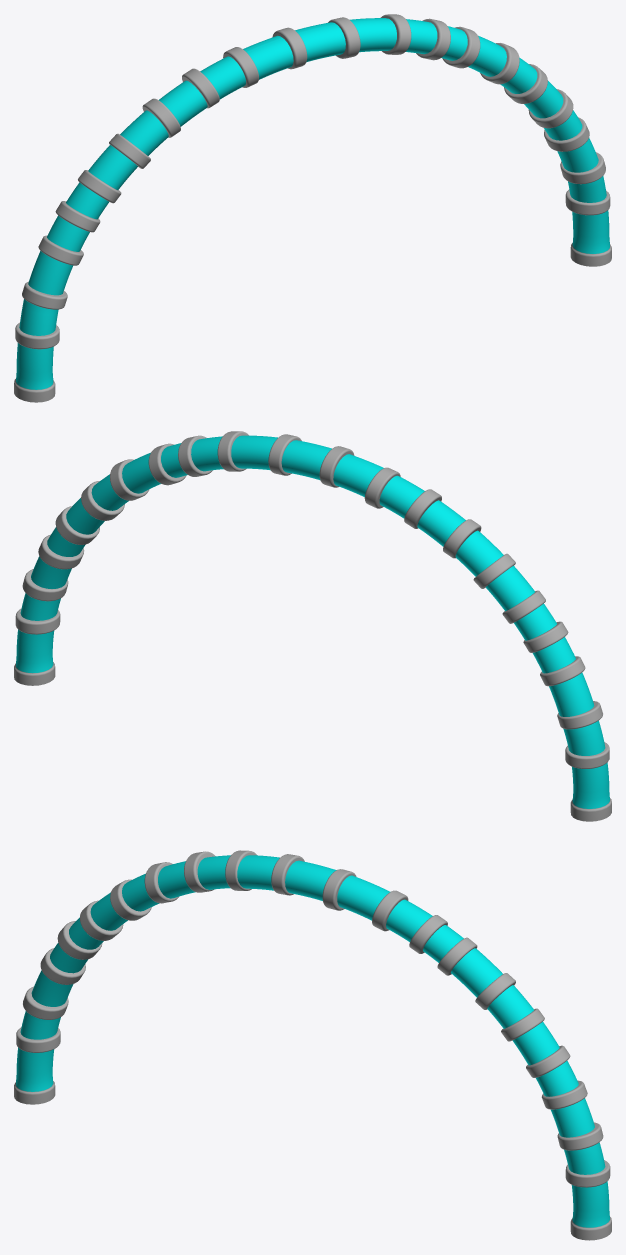
The model's file is ReactorCordInGround.fbx.
The picture shows the model from 3 angles, top to bottom: view 1: azimuth 30°, elevation 25°; view 2: azimuth 150°, elevation 25°; view 3: azimuth 330°, elevation 25°; orthographic projection.
Visible parts, largest first — view 1: pCylinder83; view 2: pCylinder83; view 3: pCylinder83.
Part boxes in pixels (x1,y1,x2,y2): pCylinder83: (14,14,611,402); pCylinder83: (14,431,611,821); pCylinder83: (14,850,611,1240).
Bounding box in the file's own units: 2.11 × 1.03 × 0.1651.
